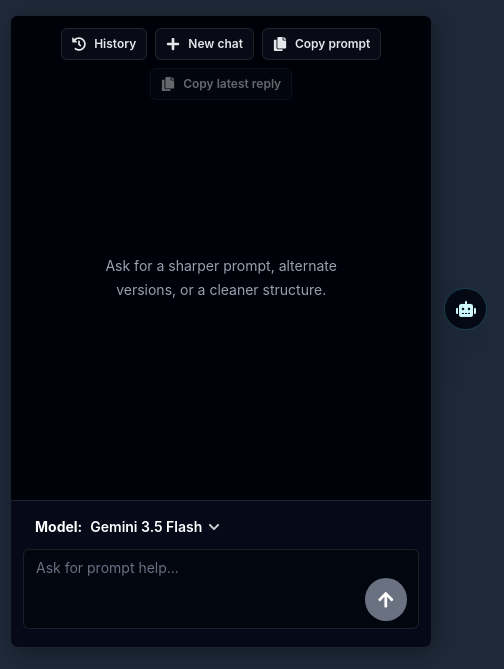
PromptChatPanel history management › renames a conversation inline and persists the custom title
Click the button "History" at (104, 44), box [61,28,147,60]
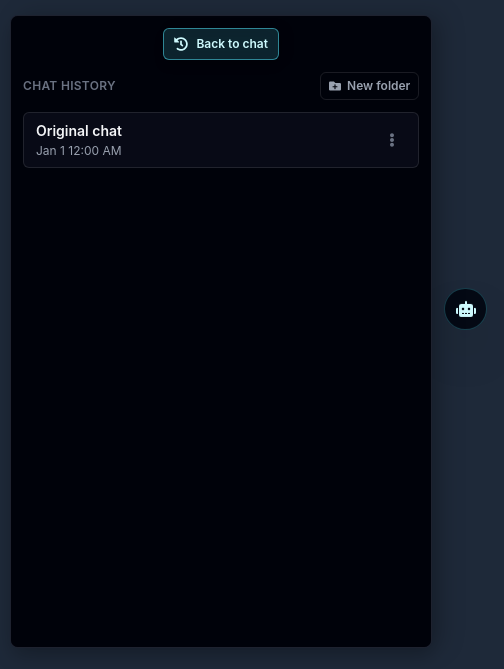
Expected: the text "Original chat" is shown, [36,121,122,141]
Click the button named "Conversation actions" at (392, 140), box [378,126,406,154]
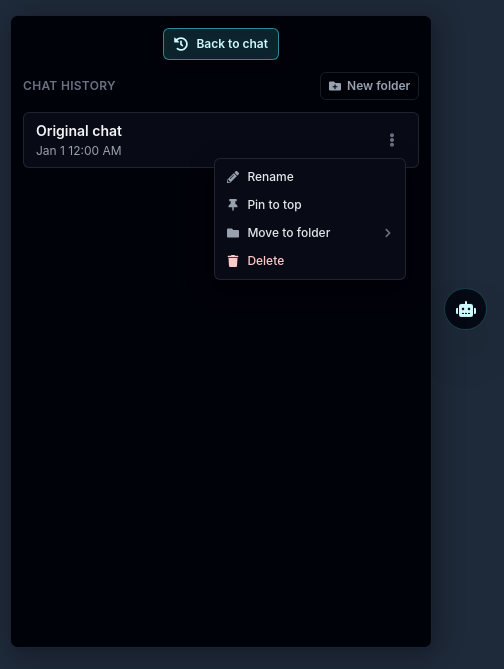
Click the menu item "Rename" at (310, 177), box [215,163,405,191]
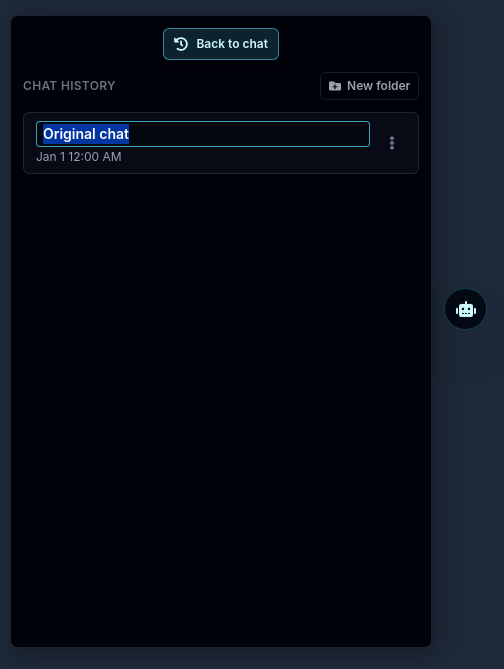
Replace the text in the field named "Conversation title" with "Renamed chat" at (203, 134), box [36,121,370,147]
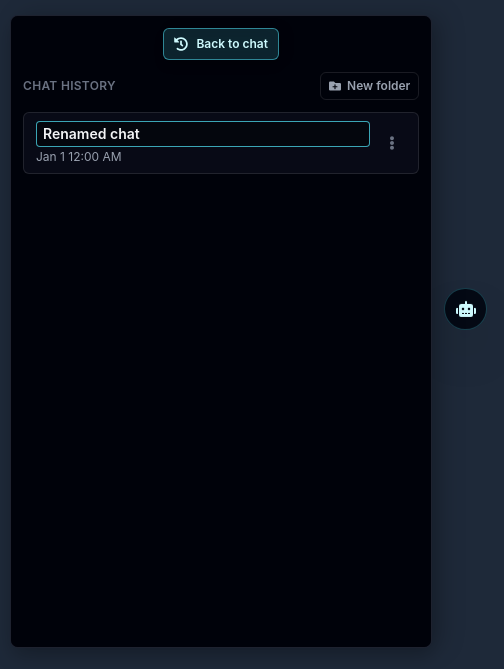
Press Enter in the field named "Conversation title", box [36,121,370,147]
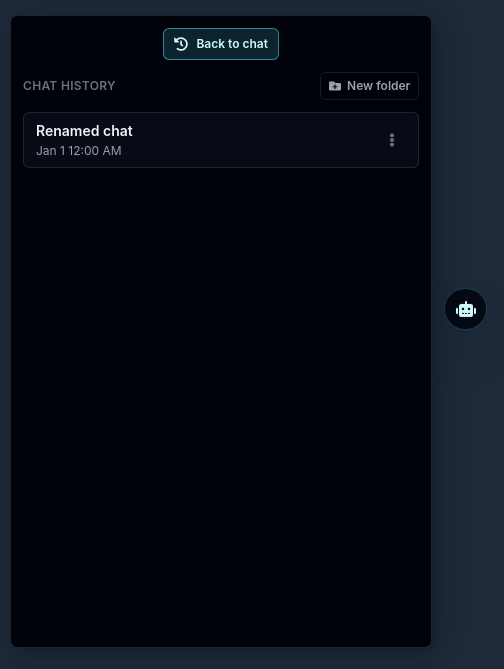
Expected: the button "Original chat" is not shown
Expected: the text "Renamed chat" is shown, [36,121,133,141]
